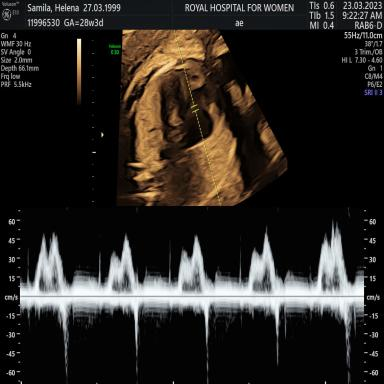Ultrasound-Waves: (25, 212, 359, 384)
